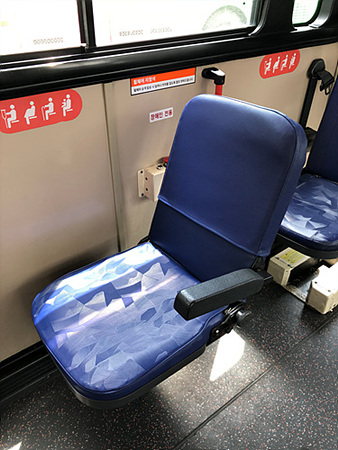seat: (32, 96, 307, 404)
